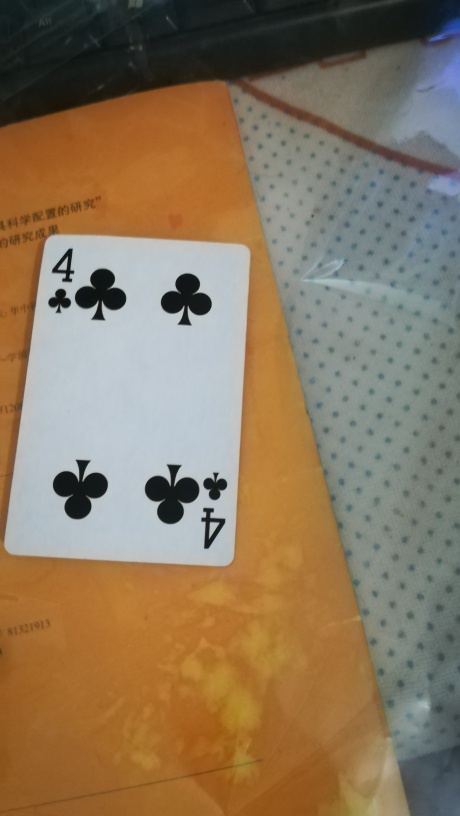mh 4: (3, 233, 250, 566)
